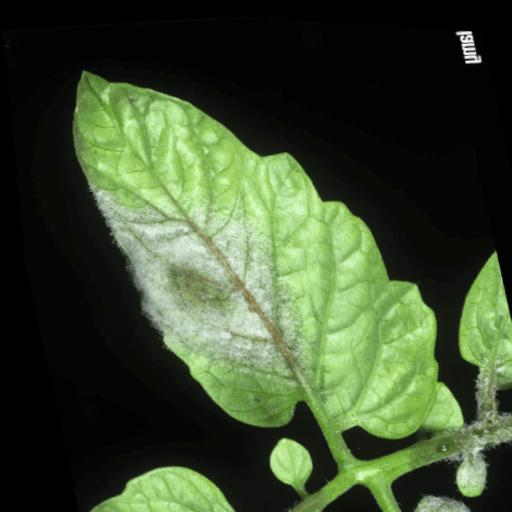Late Blight: (51, 32, 459, 470)
